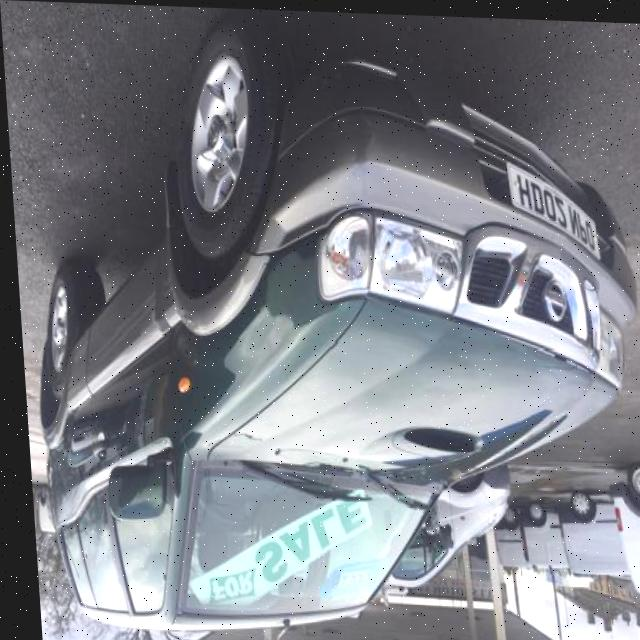plate: (503, 158, 597, 257)
